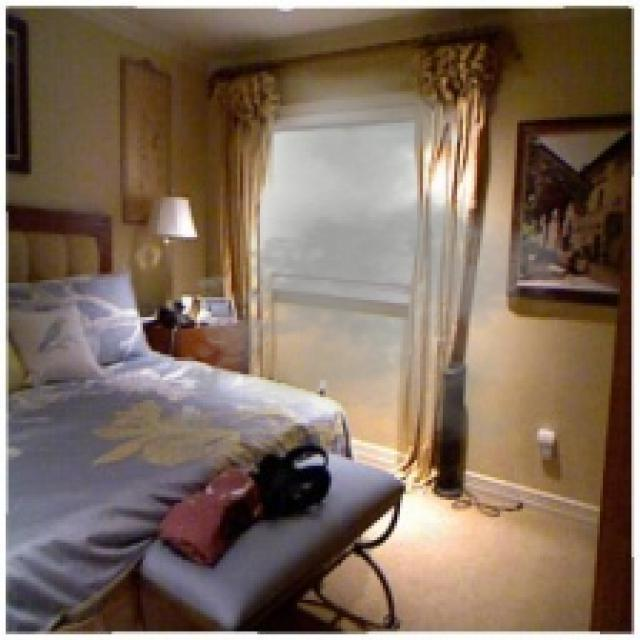Smoke: (168, 68, 583, 446)
